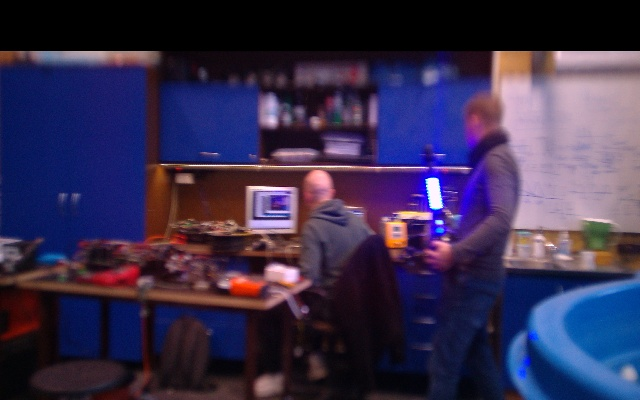blue: (424, 177, 443, 211)
